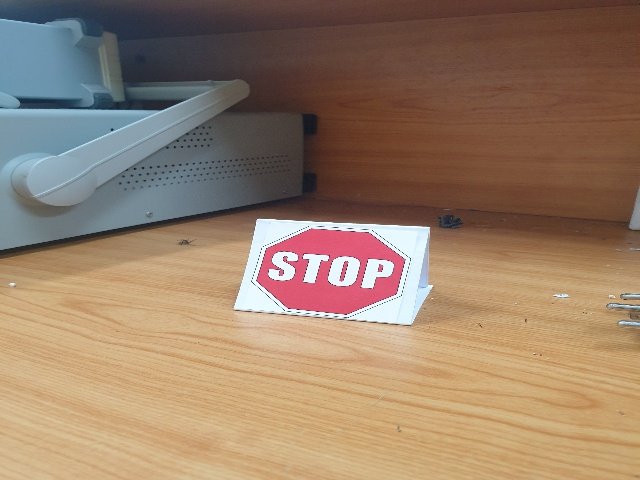Stop: (253, 223, 410, 319)
